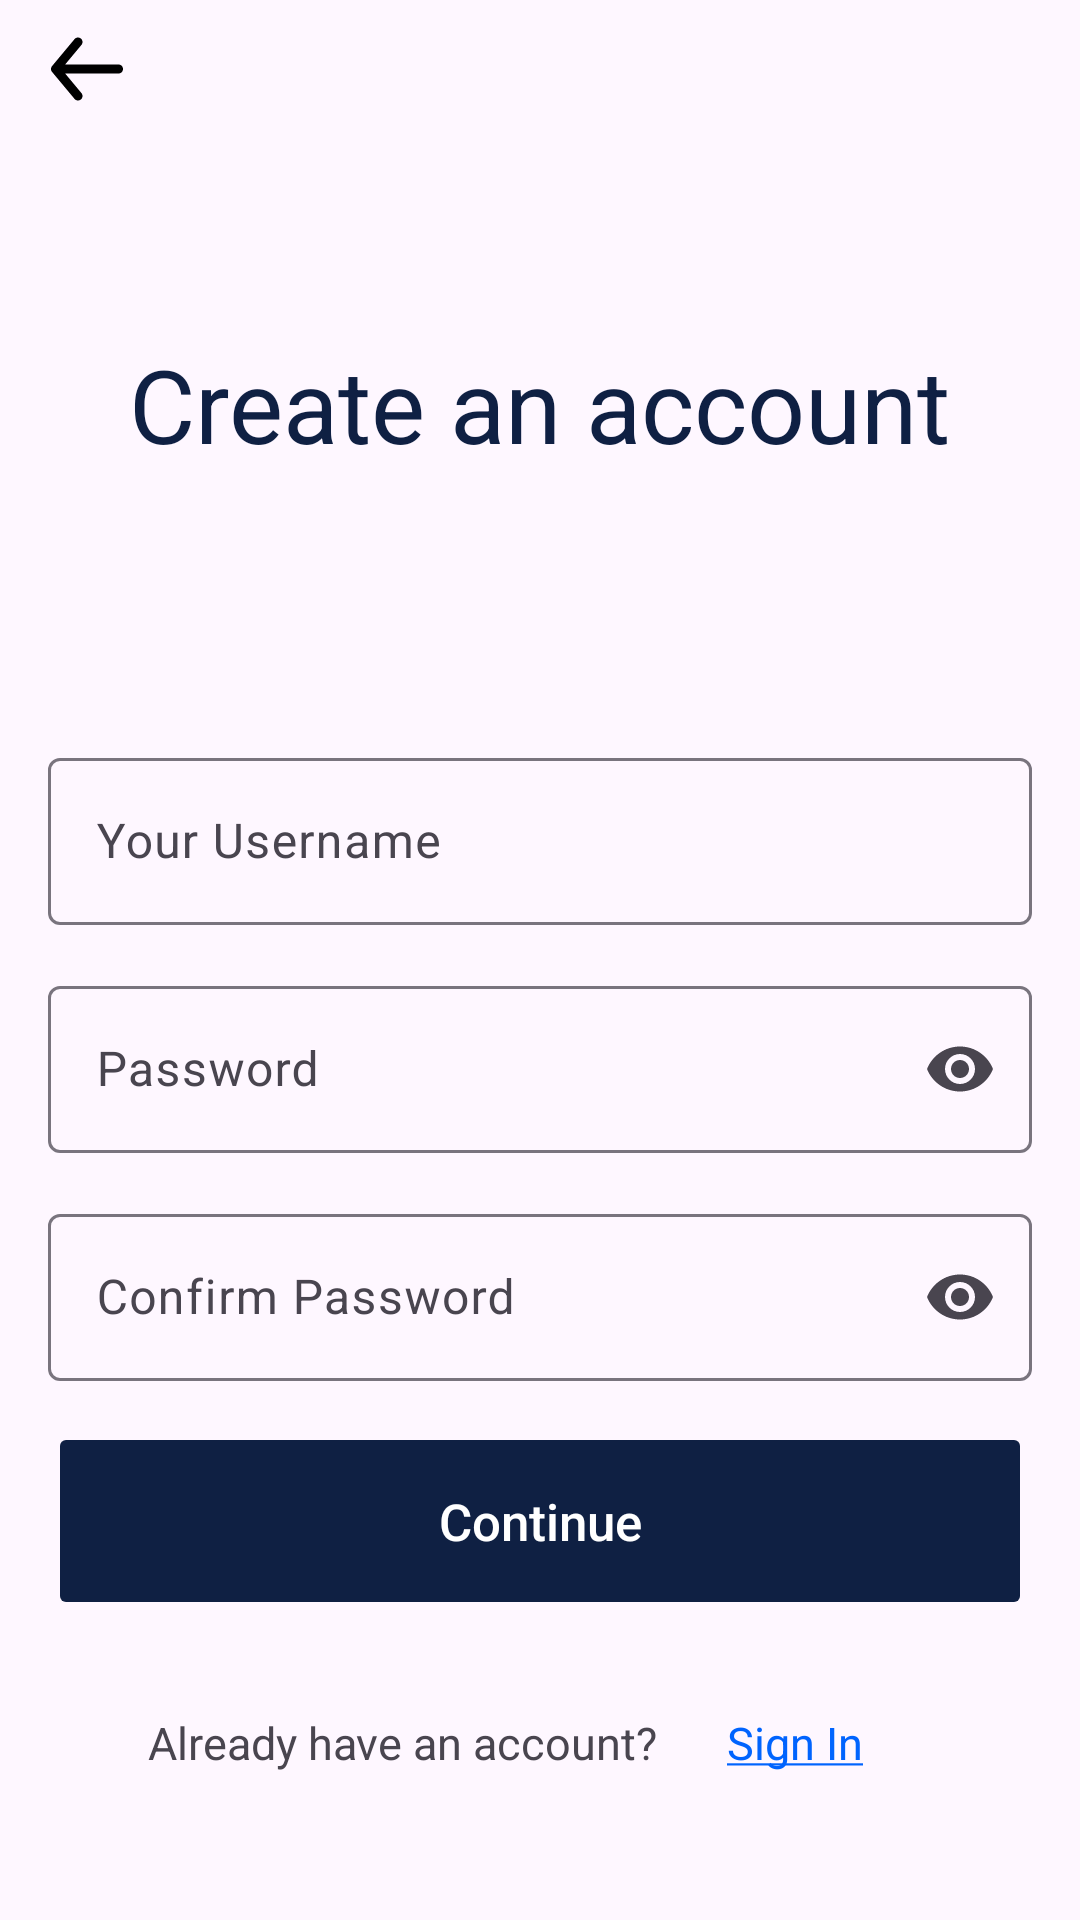

Where icons sit on this 1080×1920 app screen, as (x1,y1,x2,y2):
back: (51,37,123,101)
